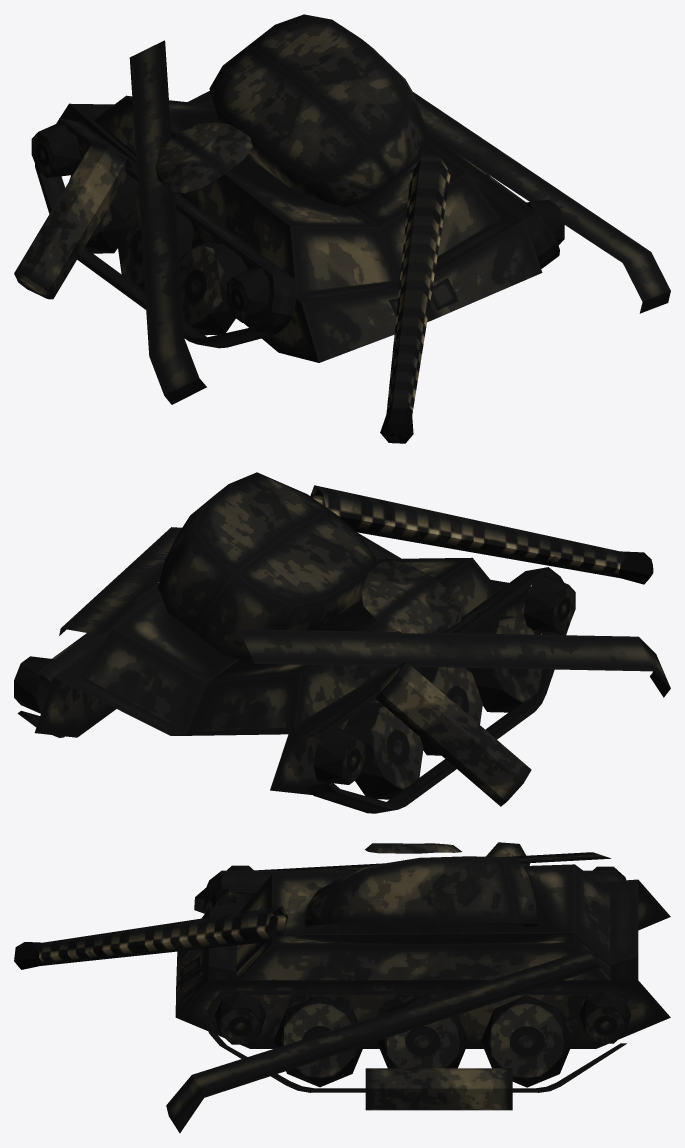
File: warTankDestoyed.fbx
3 renders of one model, top to bottom at view 1: azimuth 30°, elevation 25°; view 2: azimuth 150°, elevation 25°; view 3: azimuth 270°, elevation 25°, orthographic. The views are drawn at different scales.
Visible parts, largest first — view 1: warTankDestroyed; view 2: warTankDestroyed; view 3: warTankDestroyed.
Part boxes in pixels (x1,y1,x2,y2): warTankDestroyed: [14, 14, 670, 443]; warTankDestroyed: [14, 472, 670, 813]; warTankDestroyed: [14, 842, 670, 1133].
Size of the model in its own units: 280 by 116 by 350.
1 material, 1 textured.
